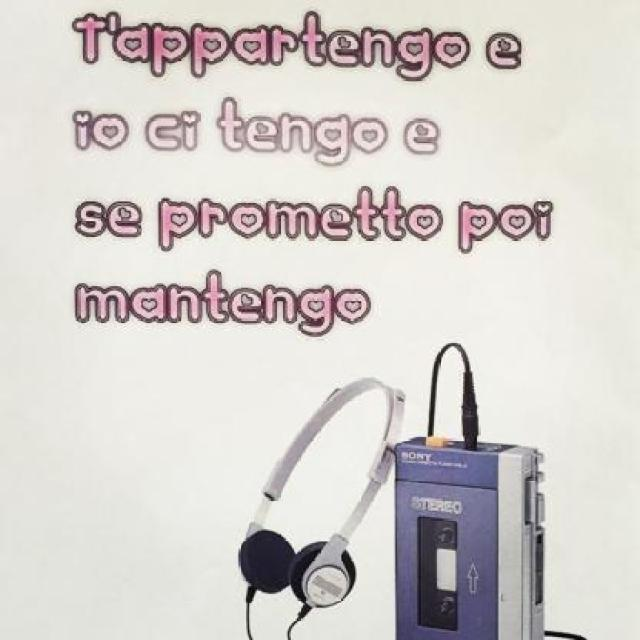earphone: (223, 373, 415, 632)
